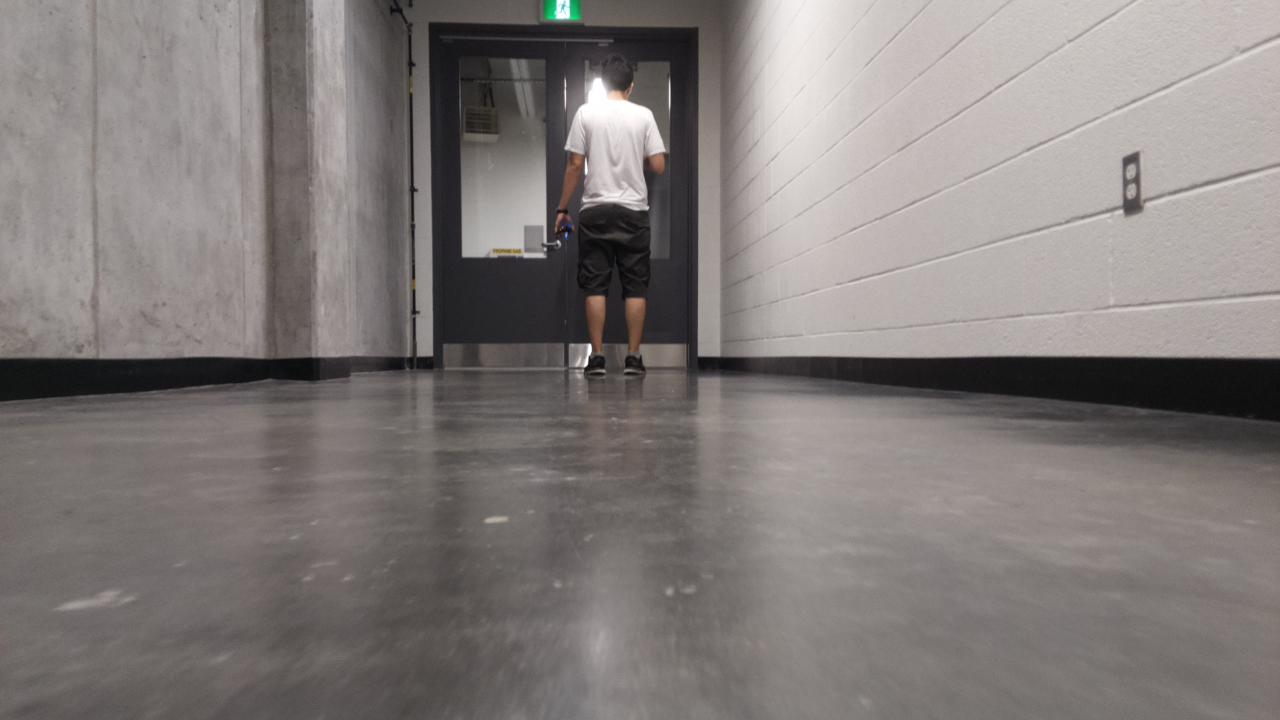door: (427, 20, 699, 371)
person: (554, 54, 666, 379)
sign: (542, 0, 580, 20)
